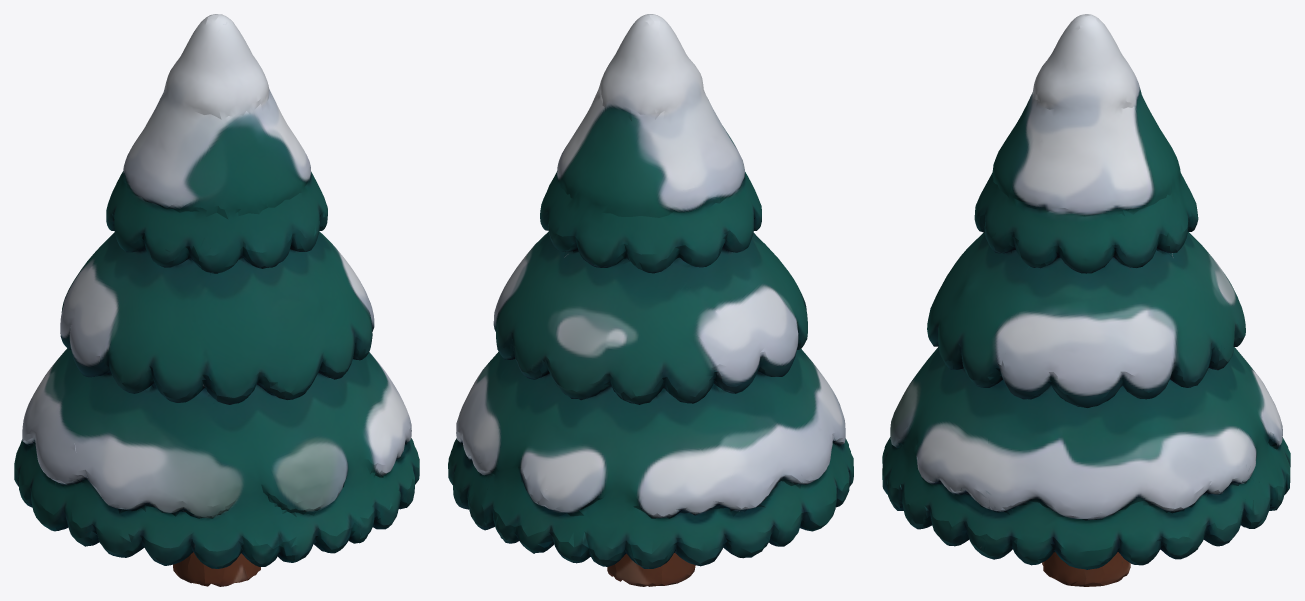
File: tree_snow.glb
The picture shows the model from 3 angles, left to right: view 1: azimuth 30°, elevation 25°; view 2: azimuth 150°, elevation 25°; view 3: azimuth 270°, elevation 25°; orthographic projection.
Parts seen in each view (by area): view 1: tree_snow; view 2: tree_snow; view 3: tree_snow.
Boxes of the visible parts, x1=… form: tree_snow: x1=14, y1=14, x2=419, y2=586; tree_snow: x1=448, y1=14, x2=853, y2=586; tree_snow: x1=882, y1=14, x2=1290, y2=586.
Bounding box in the file's own units: 0.6686 × 1 × 0.6687.
1 material, 1 textured.
